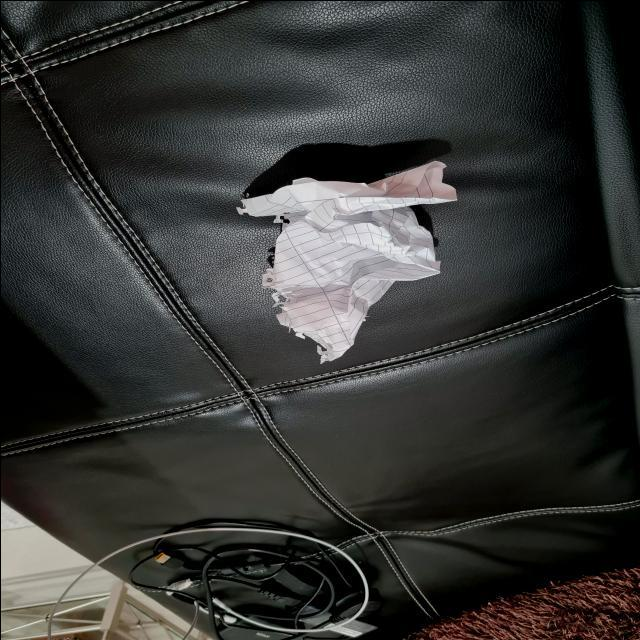Paper: (240, 155, 463, 370)
